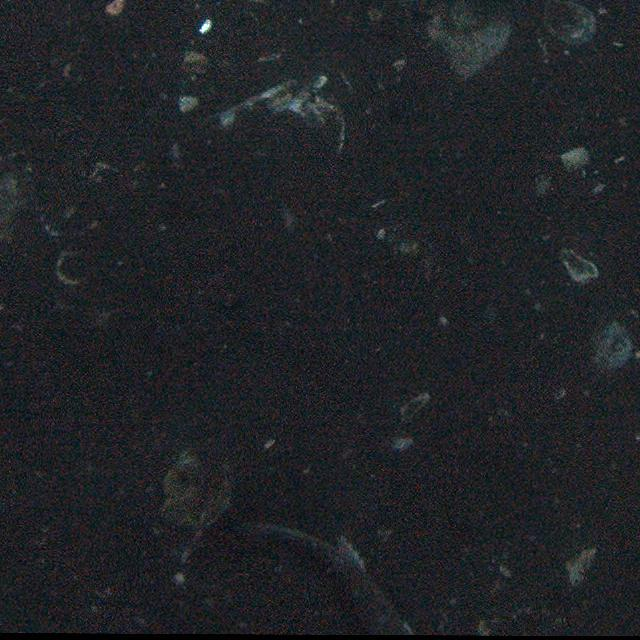roundfish: (231, 516, 428, 636)
